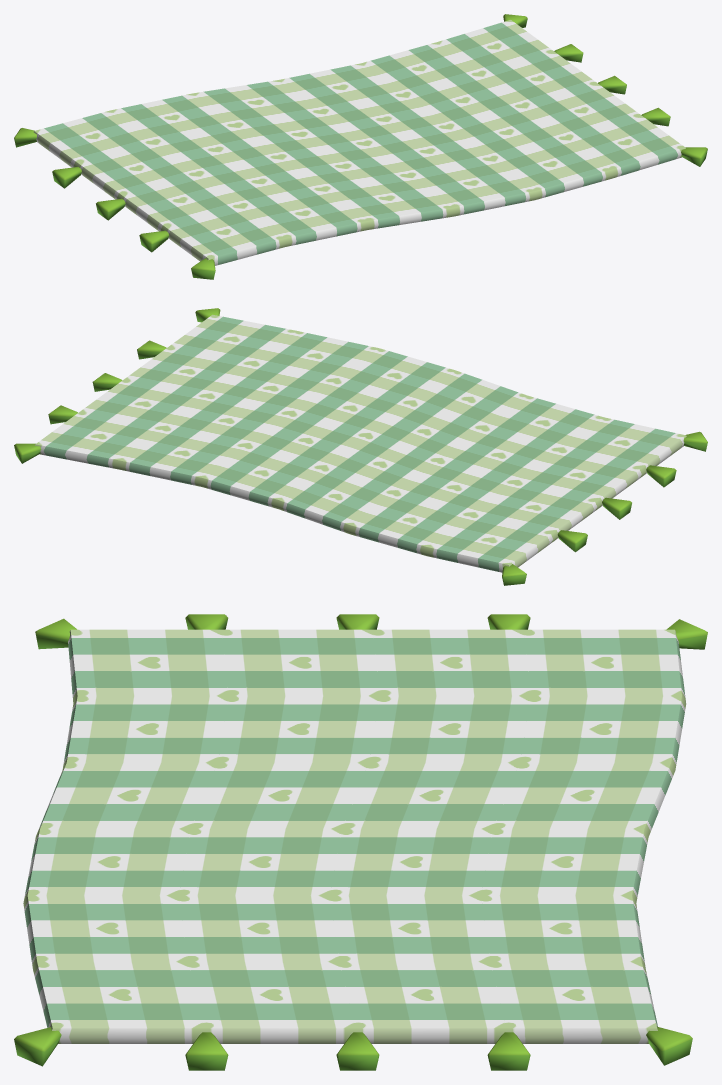
File: blanket-DpoouQCm.glb
3 views of the same model, one above another, from view 1: azimuth 30°, elevation 25°; view 2: azimuth 150°, elevation 25°; view 3: azimuth 270°, elevation 25° (orthographic). The views are drawn at different scales.
Visible parts, largest first — view 1: picnic_blanket_green; view 2: picnic_blanket_green; view 3: picnic_blanket_green.
Boxes of the visible parts, <box> form: picnic_blanket_green: <box>14,14,707,279</box>; picnic_blanket_green: <box>14,308,707,585</box>; picnic_blanket_green: <box>14,614,707,1070</box>.
Bounding box in the file's own units: 6 × 0.1476 × 4.
Materials: 2 (2 with a texture image).
